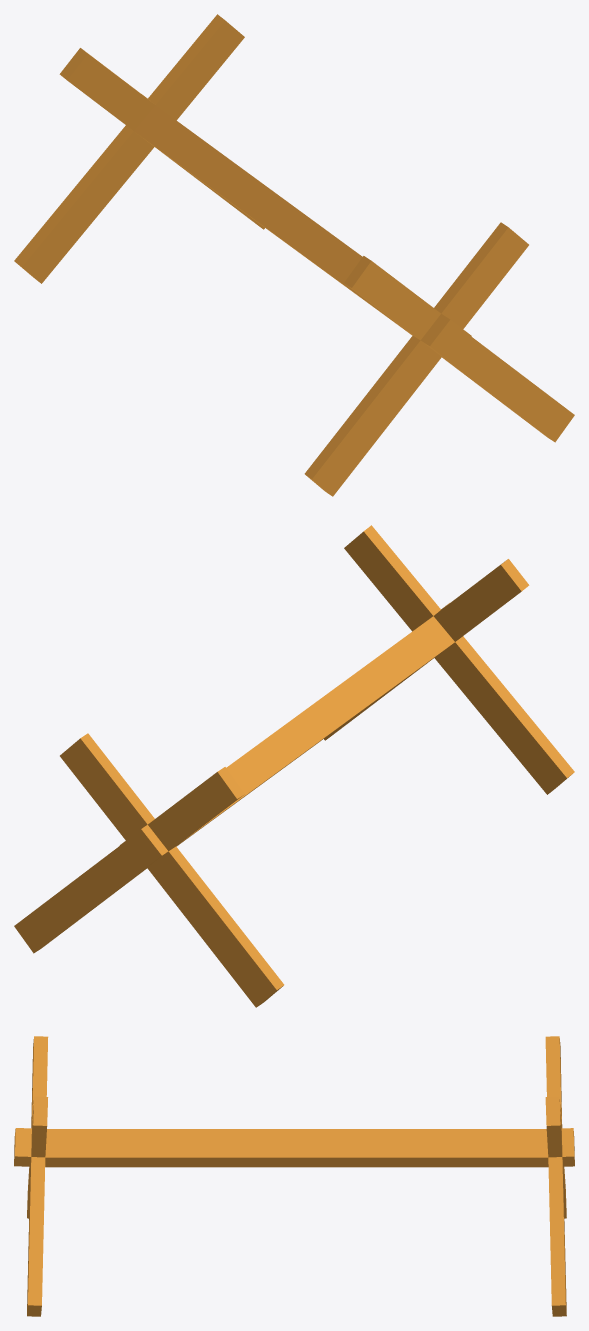
Rendered from woodcutter.fbx.
3 renders of one model, top to bottom at view 1: azimuth 30°, elevation 25°; view 2: azimuth 150°, elevation 25°; view 3: azimuth 270°, elevation 25°, orthographic. The views are drawn at different scales.
Visible parts, largest first — view 1: Woodcutter; view 2: Woodcutter; view 3: Woodcutter.
Boxes of the visible parts, x1,y1,x2,y2 form: Woodcutter: (14,14,574,496); Woodcutter: (14,525,574,1007); Woodcutter: (14,1036,574,1316).
Bounding box in the file's own units: 315 × 256 × 646.
